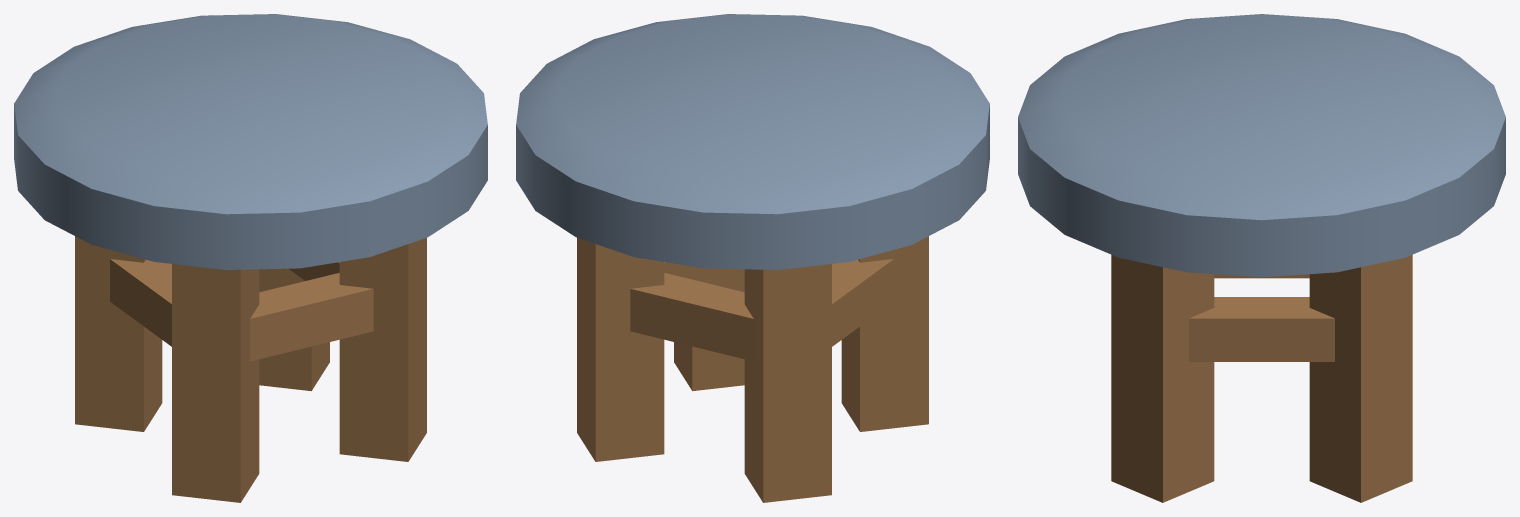
File: Environment_Stool.fbx
The picture shows the model from 3 angles, left to right: view 1: azimuth 30°, elevation 25°; view 2: azimuth 150°, elevation 25°; view 3: azimuth 270°, elevation 25°; orthographic projection. The views are drawn at different scales.
Visible parts, largest first — view 1: Environment_Stool; view 2: Environment_Stool; view 3: Environment_Stool.
Boxes of the visible parts, x1,y1,x2,y2 form: Environment_Stool: (14,14,487,502); Environment_Stool: (516,14,989,502); Environment_Stool: (1018,14,1505,502).
Size of the model in its own units: 114 by 87.65 by 114.
